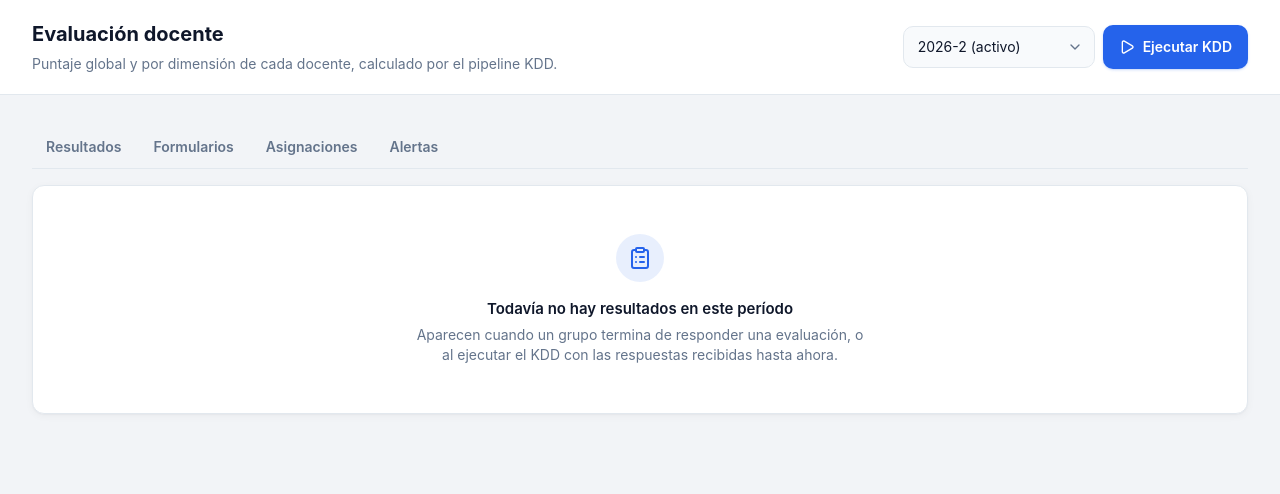
Scenario: Resultados KDD del Administrador (RF-39, RF-41) › ejecuta el KDD del período y resume lo que hizo
The image size is (1280, 494).
Check: the text "Todavía no hay resultados en este período" is shown, box [487,298,793,320]
Click the button "Ejecutar KDD": (1175, 47) [1103,25,1248,69]
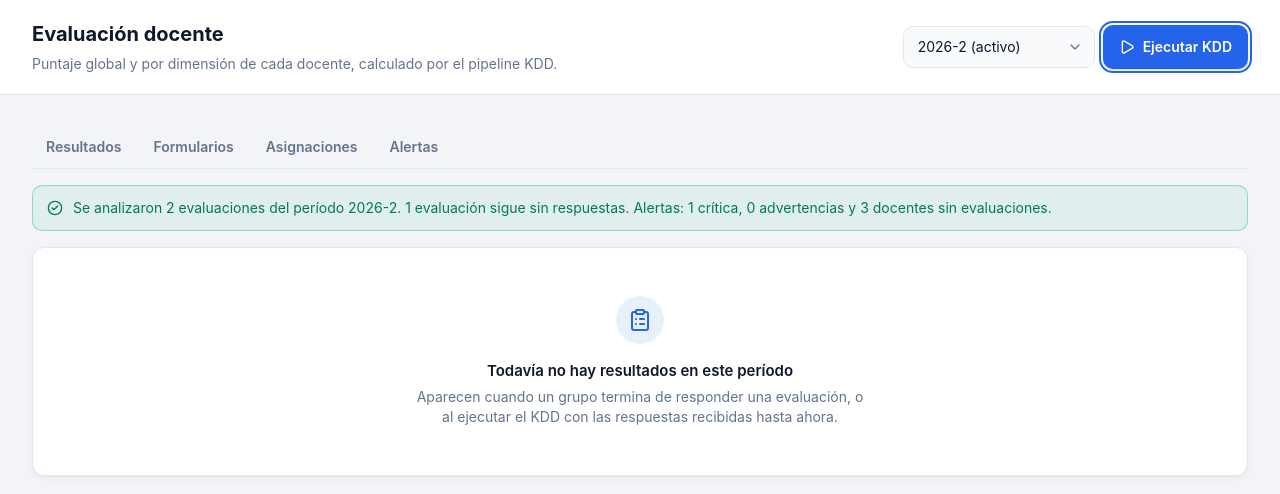
Check: the text "Se analizaron 2 evaluaciones del período 2026-2. 1 evaluación sigue sin respuestas. Alertas: 1 crítica, 0 advertencias y" is shown, box [73,199,1052,216]
